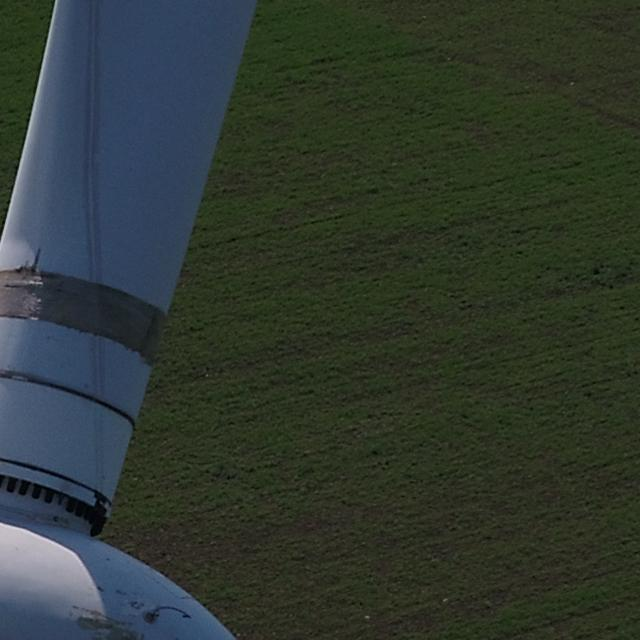damage: (73, 610, 140, 640), (13, 244, 44, 276), (93, 583, 106, 590)
